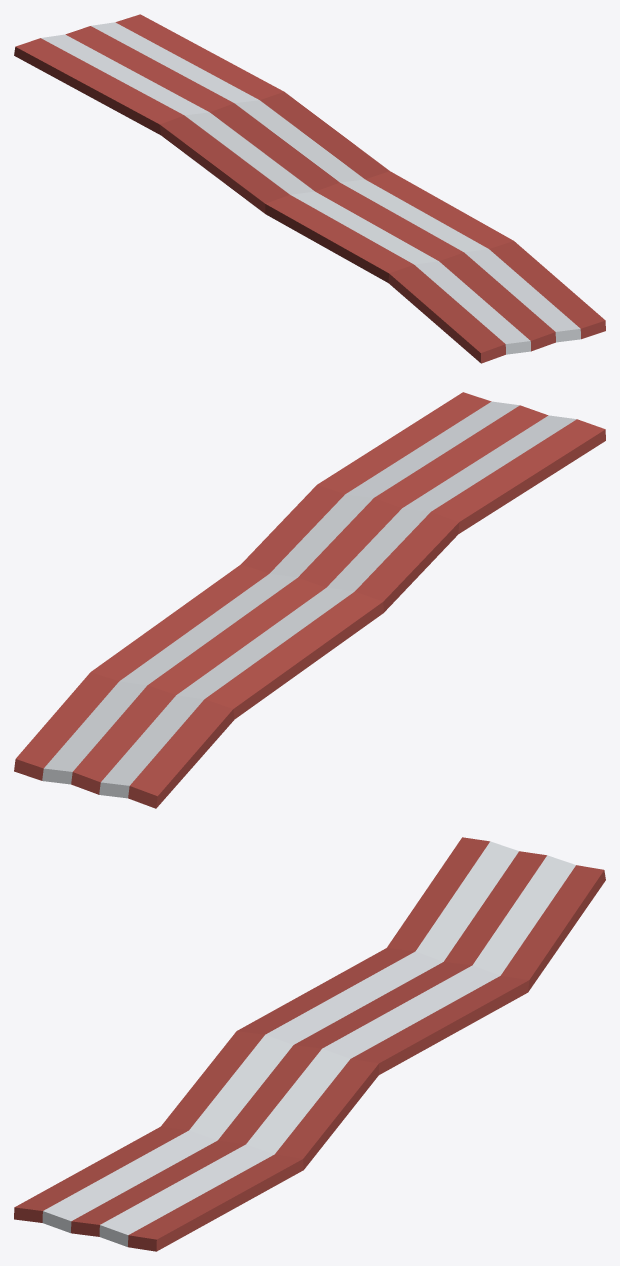
Rendered from Bacon.fbx.
The picture shows the model from 3 angles, top to bottom: view 1: azimuth 30°, elevation 25°; view 2: azimuth 150°, elevation 25°; view 3: azimuth 330°, elevation 25°; orthographic projection. The views are drawn at different scales.
Visible parts, largest first — view 1: Bacon; view 2: Bacon; view 3: Bacon.
Part boxes in pixels (left/top/right/bottom): Bacon: left=14, top=14, right=605, bottom=363; Bacon: left=14, top=392, right=605, bottom=808; Bacon: left=14, top=837, right=605, bottom=1251.
Bounding box in the file's own units: 9.74 × 1.22 × 40.46.
